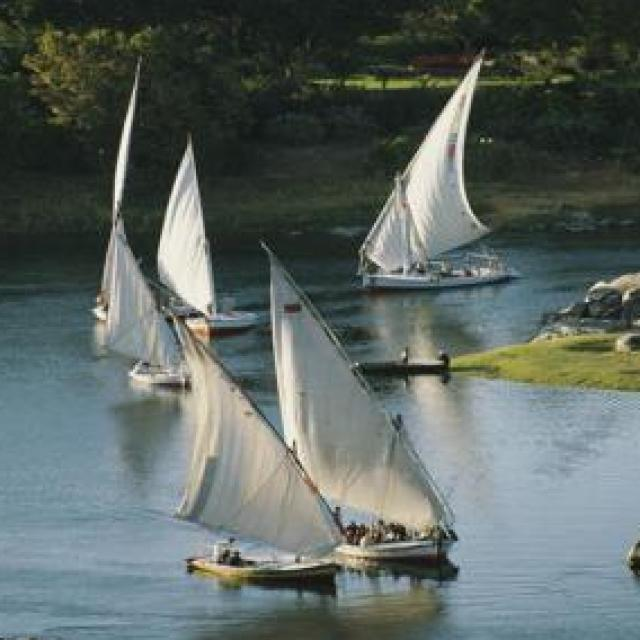sailboat: (250, 241, 460, 566), (169, 323, 336, 589), (370, 51, 523, 286), (152, 133, 266, 331), (79, 47, 151, 317), (104, 221, 188, 383)
